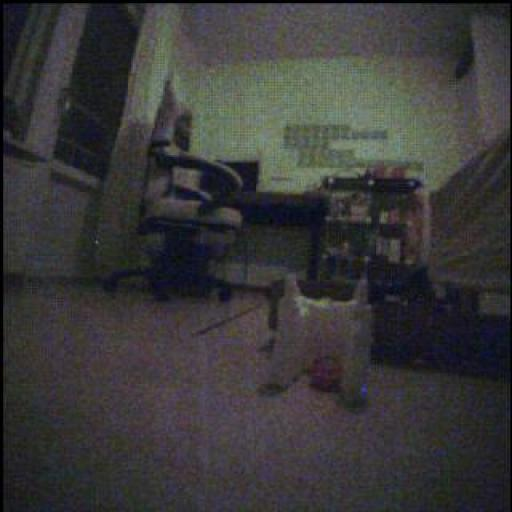basket: (310, 358, 343, 393)
